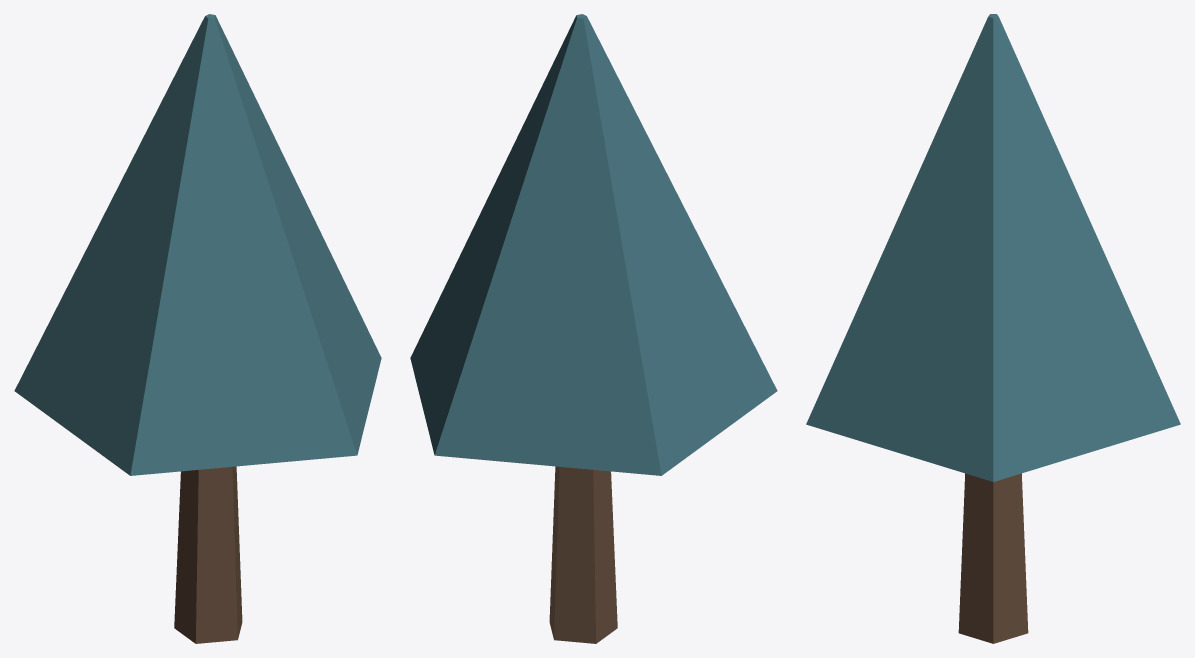
The model's file is Kit_FrostboundGlacier_Tree_LOD1.glb.
3 views of the same model, side by side, from view 1: azimuth 30°, elevation 25°; view 2: azimuth 150°, elevation 25°; view 3: azimuth 270°, elevation 25° (orthographic).
Parts seen in each view (by area): view 1: Kit_FrostboundGlacier_Tree_LOD1_FrostboundGlacier_leaf_-1_0, Kit_FrostboundGlacier_Tree_LOD1_Warm timber_-1_0; view 2: Kit_FrostboundGlacier_Tree_LOD1_FrostboundGlacier_leaf_-1_0, Kit_FrostboundGlacier_Tree_LOD1_Warm timber_-1_0; view 3: Kit_FrostboundGlacier_Tree_LOD1_FrostboundGlacier_leaf_-1_0, Kit_FrostboundGlacier_Tree_LOD1_Warm timber_-1_0.
Part boxes in pixels (x1,y1,x2,y2): Kit_FrostboundGlacier_Tree_LOD1_FrostboundGlacier_leaf_-1_0: [14, 14, 381, 475]; Kit_FrostboundGlacier_Tree_LOD1_Warm timber_-1_0: [174, 466, 242, 643]; Kit_FrostboundGlacier_Tree_LOD1_FrostboundGlacier_leaf_-1_0: [410, 14, 777, 475]; Kit_FrostboundGlacier_Tree_LOD1_Warm timber_-1_0: [549, 466, 617, 643]; Kit_FrostboundGlacier_Tree_LOD1_FrostboundGlacier_leaf_-1_0: [806, 14, 1180, 481]; Kit_FrostboundGlacier_Tree_LOD1_Warm timber_-1_0: [958, 473, 1028, 643].
Size of the model in its own units: 12.66 by 24 by 13.31.
